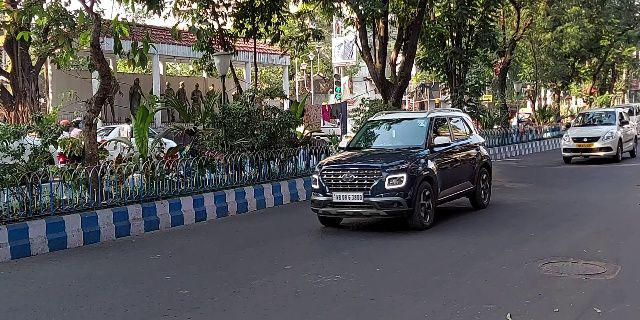Car: (306, 109, 495, 231), (560, 108, 640, 166)
